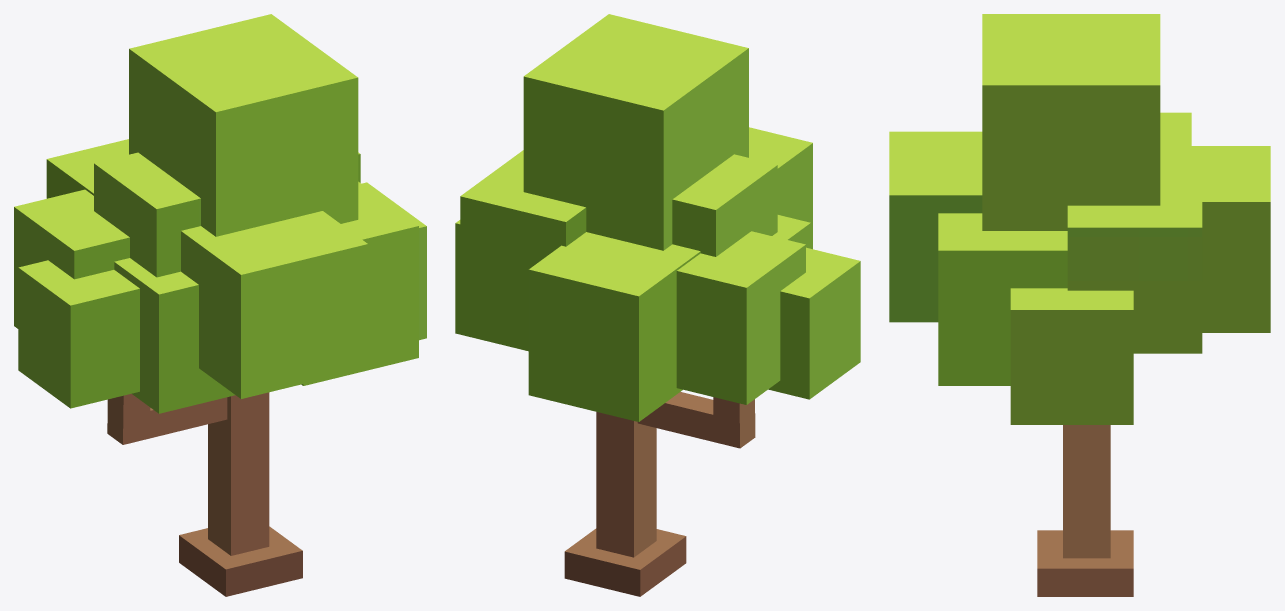
Rendered from tree_large_mesh.gltf.
3 renders of one model, left to right at view 1: azimuth 30°, elevation 25°; view 2: azimuth 150°, elevation 25°; view 3: azimuth 270°, elevation 25°, orthographic. The views are drawn at different scales.
Visible parts, largest first — view 1: tree_large_mesh; view 2: tree_large_mesh; view 3: tree_large_mesh.
Part boxes in pixels (box(x1,y1,x2,y2)): tree_large_mesh: box(14, 14, 426, 596); tree_large_mesh: box(455, 14, 860, 596); tree_large_mesh: box(889, 14, 1270, 596).
Bounding box in the file's own units: 4.04 × 5.59 × 3.67.
1 material, 1 textured.
